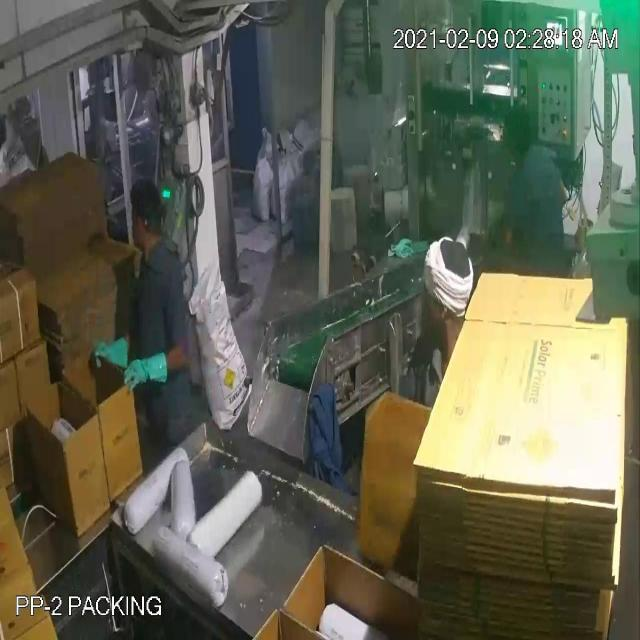Gloves: (46, 50, 148, 374)
